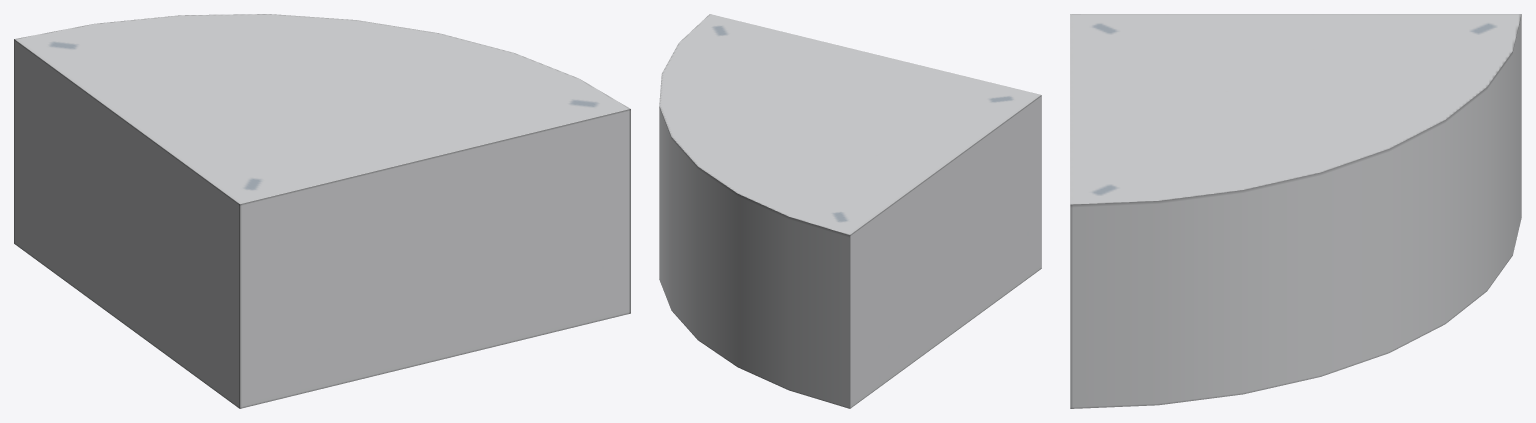
Rendered from Wall_Coin_Simple_03.FBX.
The picture shows the model from 3 angles, left to right: view 1: azimuth 30°, elevation 25°; view 2: azimuth 150°, elevation 25°; view 3: azimuth 270°, elevation 25°; orthographic projection. The views are drawn at different scales.
Visible parts, largest first — view 1: Wall_Coin_Simple_03; view 2: Wall_Coin_Simple_03; view 3: Wall_Coin_Simple_03.
Boxes of the visible parts, x1,y1,x2,y2 form: Wall_Coin_Simple_03: (14, 14, 630, 408); Wall_Coin_Simple_03: (659, 14, 1041, 408); Wall_Coin_Simple_03: (1070, 14, 1521, 408).
Bounding box in the file's own units: 2 × 1 × 2.
